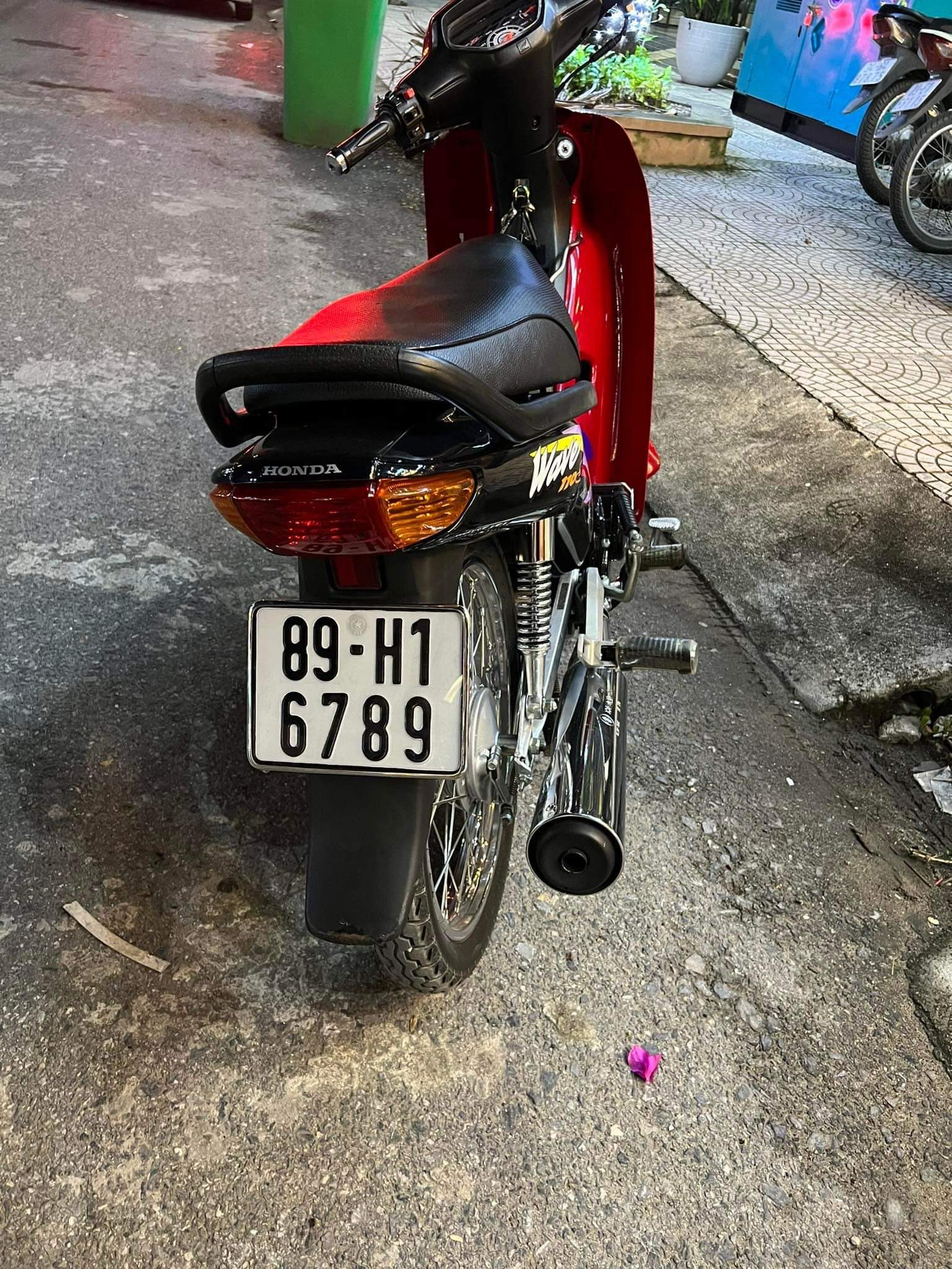bien_so: (238, 588, 485, 792)
